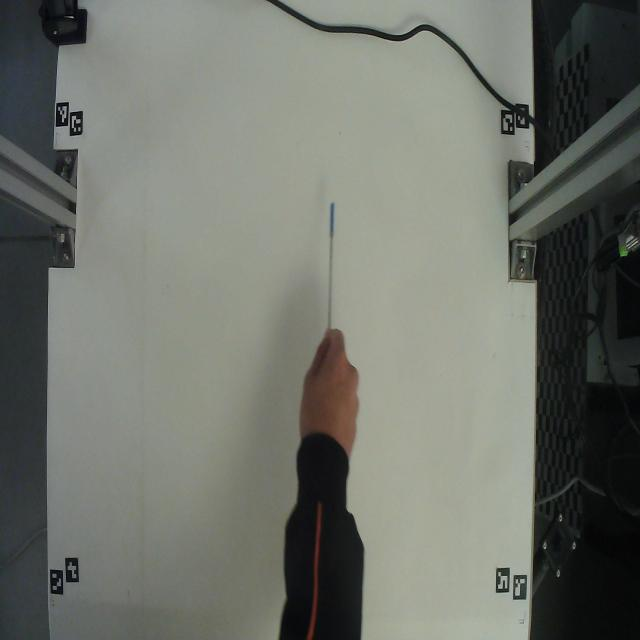NoPres: (318, 184, 342, 338)
